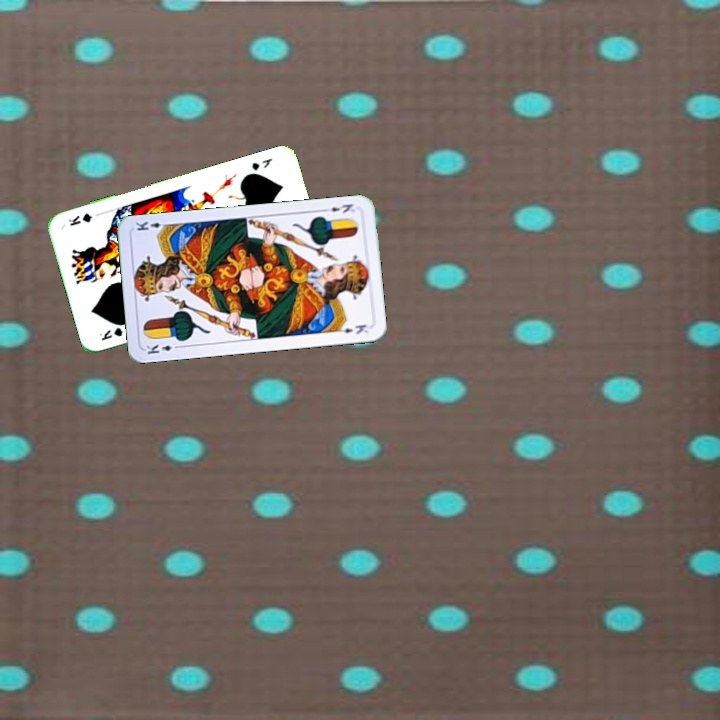EK: (142, 340, 183, 357), (319, 200, 357, 216)
GK: (95, 323, 127, 343), (248, 154, 275, 173)
